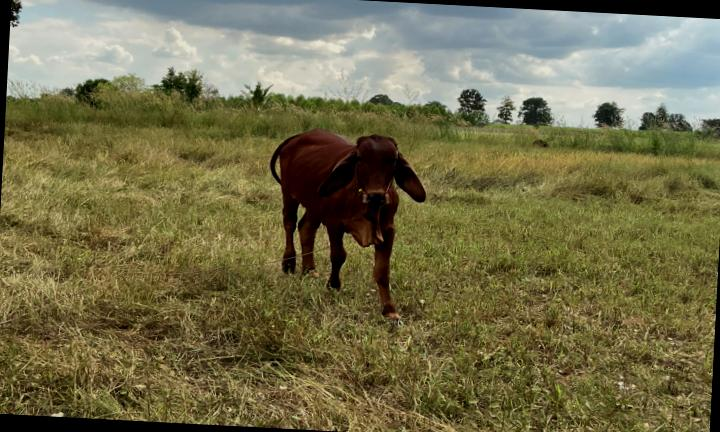Brahman: (270, 129, 425, 319)
